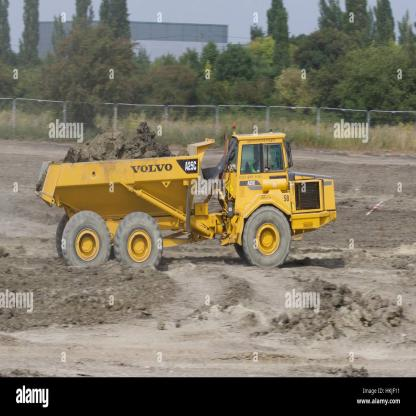dump_truck: (30, 127, 340, 277)
